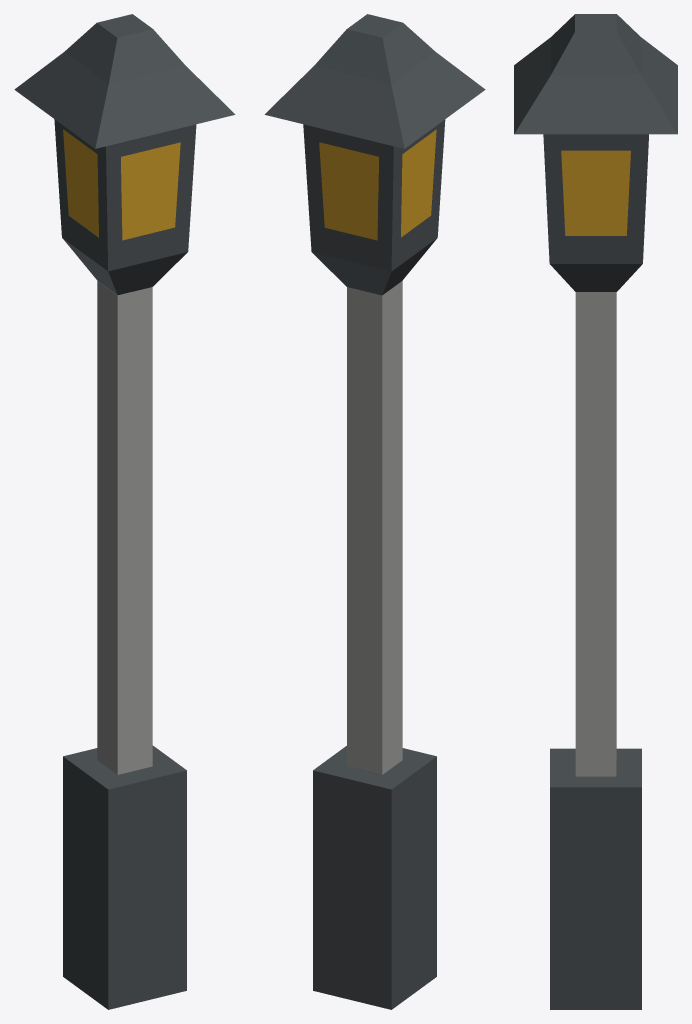
The model's file is Light_pole_1.glb.
The picture shows the model from 3 angles, left to right: view 1: azimuth 30°, elevation 25°; view 2: azimuth 150°, elevation 25°; view 3: azimuth 270°, elevation 25°; orthographic projection.
Visible parts, largest first — view 1: Light pole 1; view 2: Light pole 1; view 3: Light pole 1.
Part boxes in pixels (<box>): Light pole 1: <box>14,14,235,1009</box>; Light pole 1: <box>264,14,485,1009</box>; Light pole 1: <box>514,14,677,1009</box>.
Bounding box in the file's own units: 0.403 × 2.63 × 0.403.
